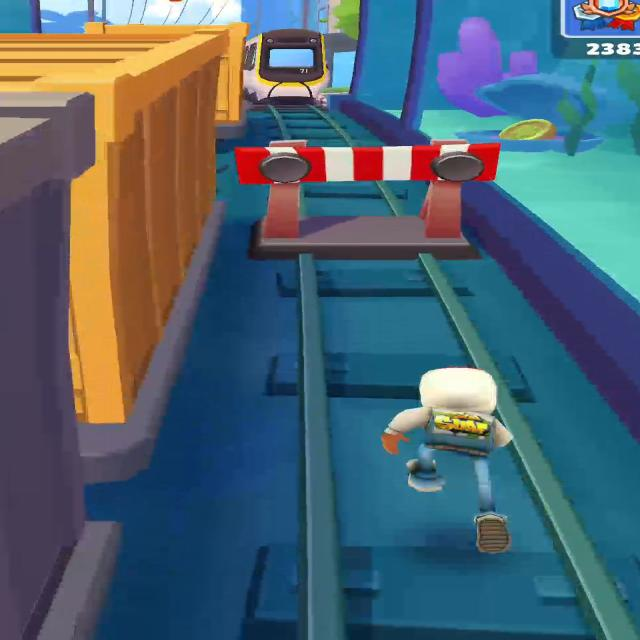blocker: (235, 140, 500, 240)
train: (0, 34, 226, 426), (0, 91, 95, 640), (102, 22, 249, 130), (243, 29, 331, 106)
